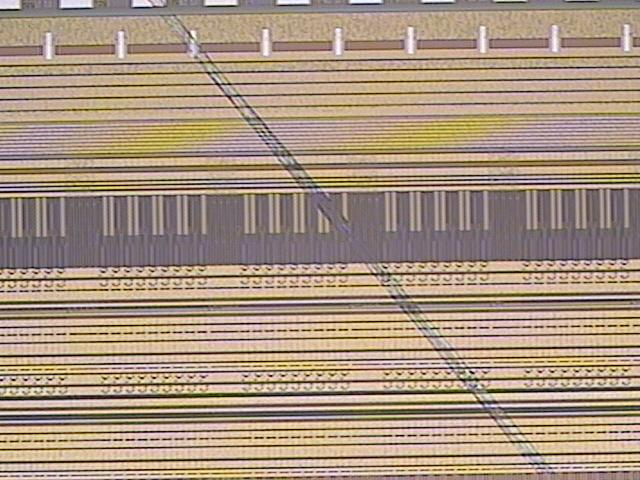SCRATCH: (143, 1, 574, 480)
